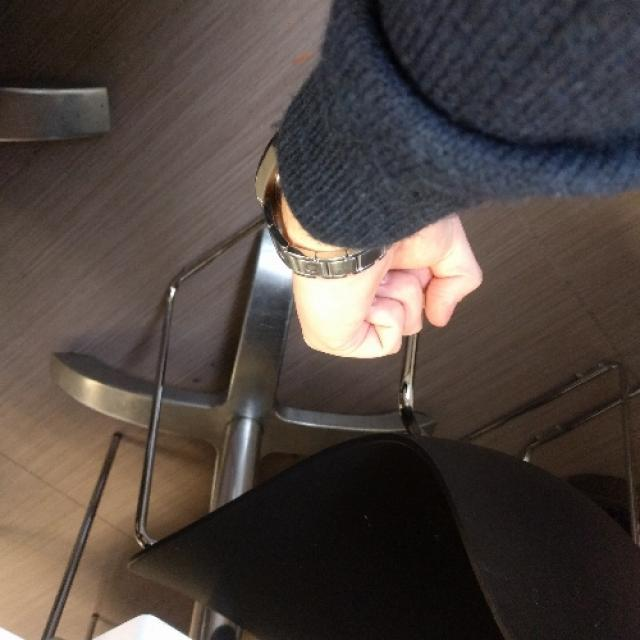rock: (285, 177, 486, 360)
